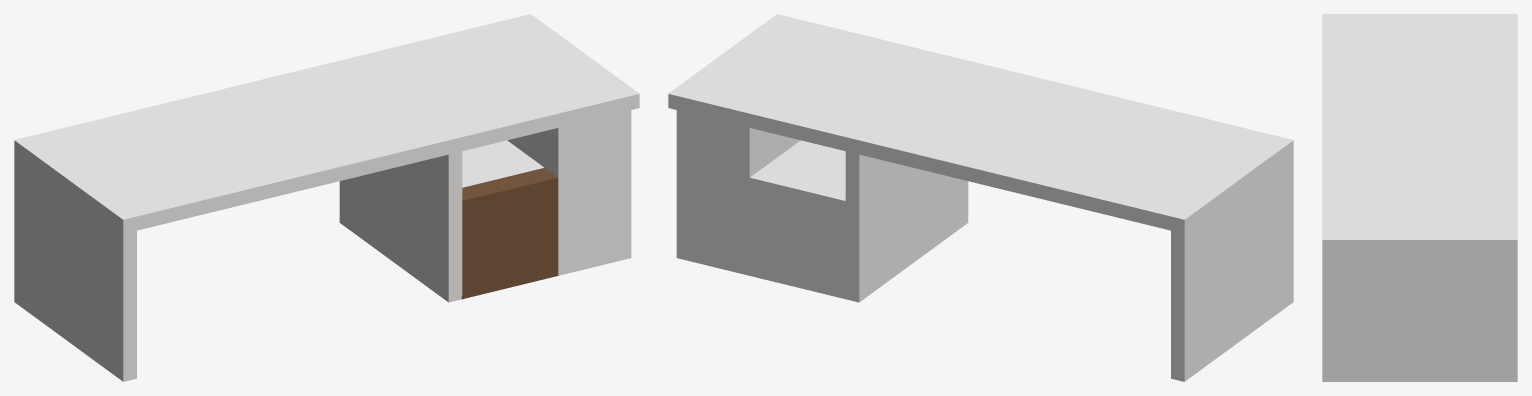
File: Table_9.fbx
3 renders of one model, left to right at view 1: azimuth 30°, elevation 25°; view 2: azimuth 150°, elevation 25°; view 3: azimuth 270°, elevation 25°, orthographic. The views are drawn at different scales.
Parts seen in each view (by area): view 1: Table_9; view 2: Table_9; view 3: Table_9.
Boxes of the visible parts, x1,y1,x2,y2 form: Table_9: [14, 14, 639, 381]; Table_9: [668, 14, 1293, 381]; Table_9: [1322, 14, 1517, 381].
Size of the model in its own units: 340 by 124 by 102.
